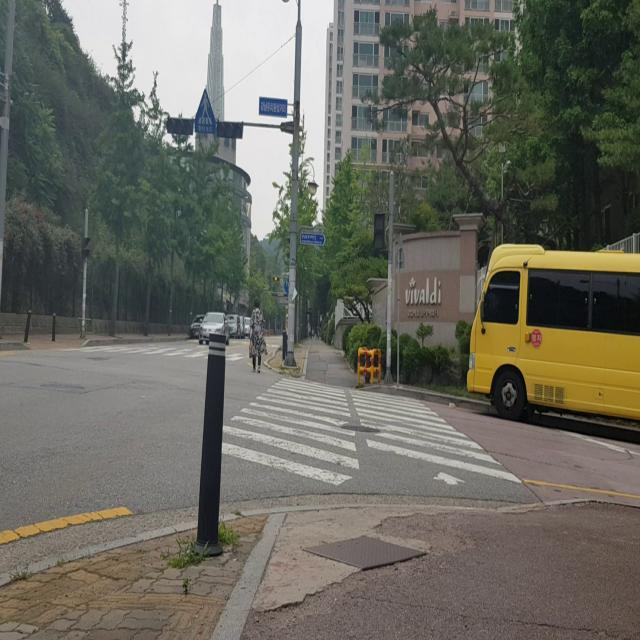빨간불: (60, 344, 244, 365)
횡단보도: (220, 374, 523, 487)
